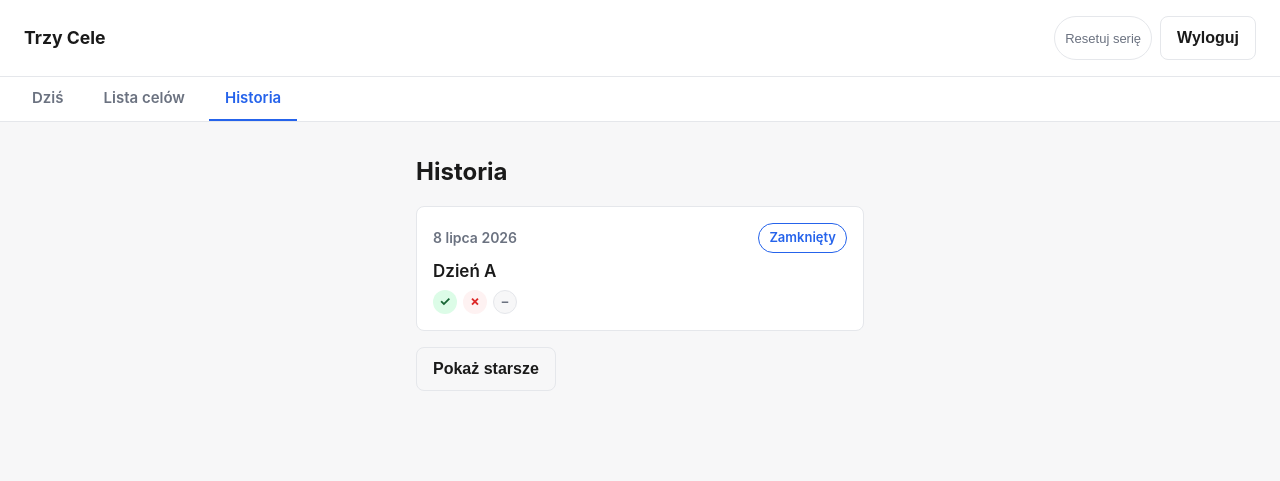
Test: HistoryPage (FE-10) › lista dni + paginacja „Pokaż starsze" doładowuje starsze
Expected: the text "Dzień A" is shown, [433,260,496,280]
Click the button "Pokaż starsze".
click(486, 369)  # box [416,347,556,391]
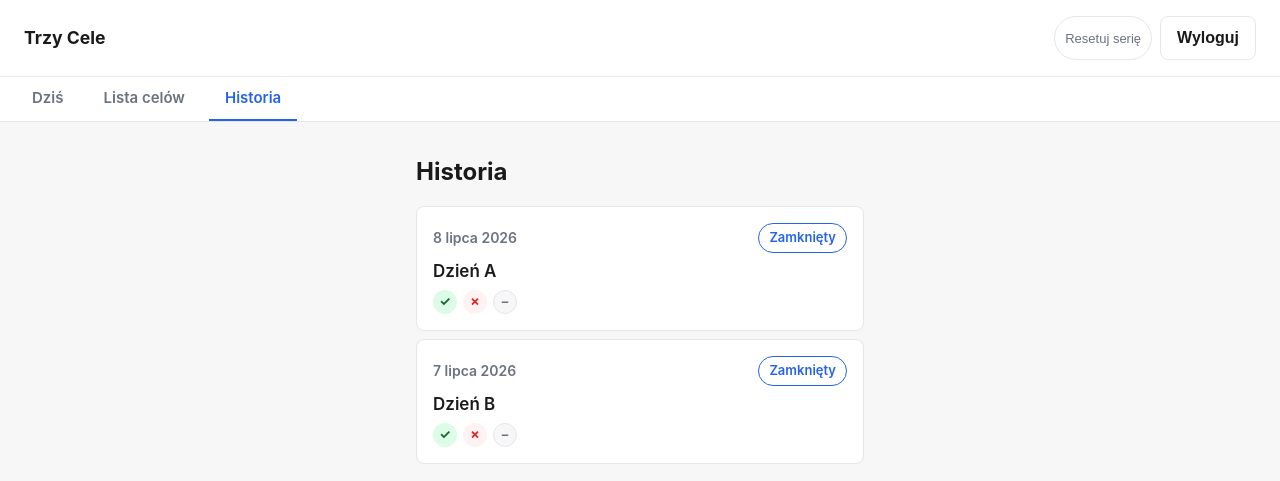
Expected: the text "Dzień B" is shown, [433,394,495,414]
Expected: the button "Pokaż starsze" is gone
